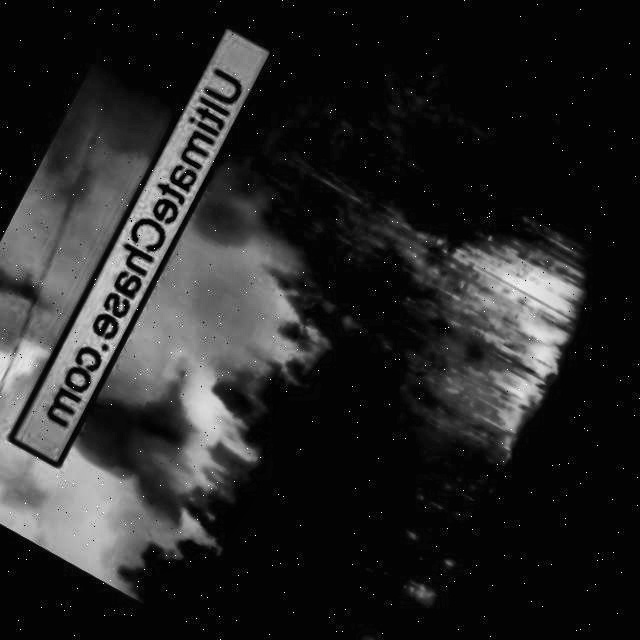Fire: (393, 220, 591, 446), (398, 562, 445, 604), (349, 620, 413, 640)
Smoke: (17, 1, 420, 610), (0, 0, 267, 498)
